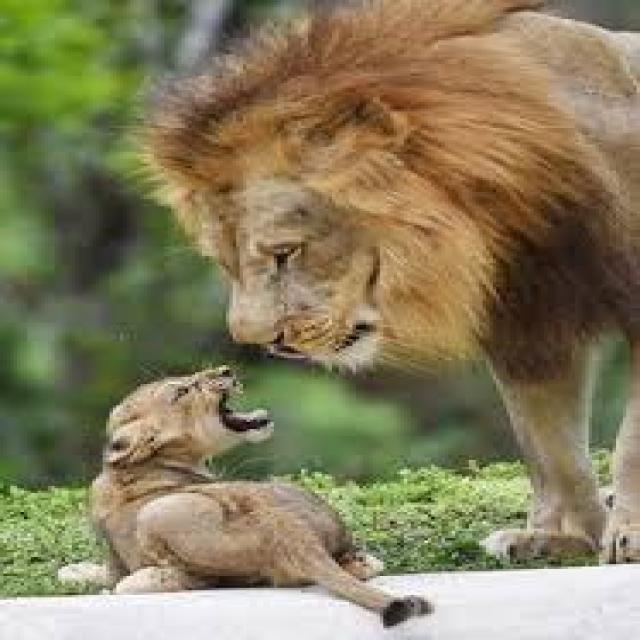Lion: (157, 11, 637, 561)
